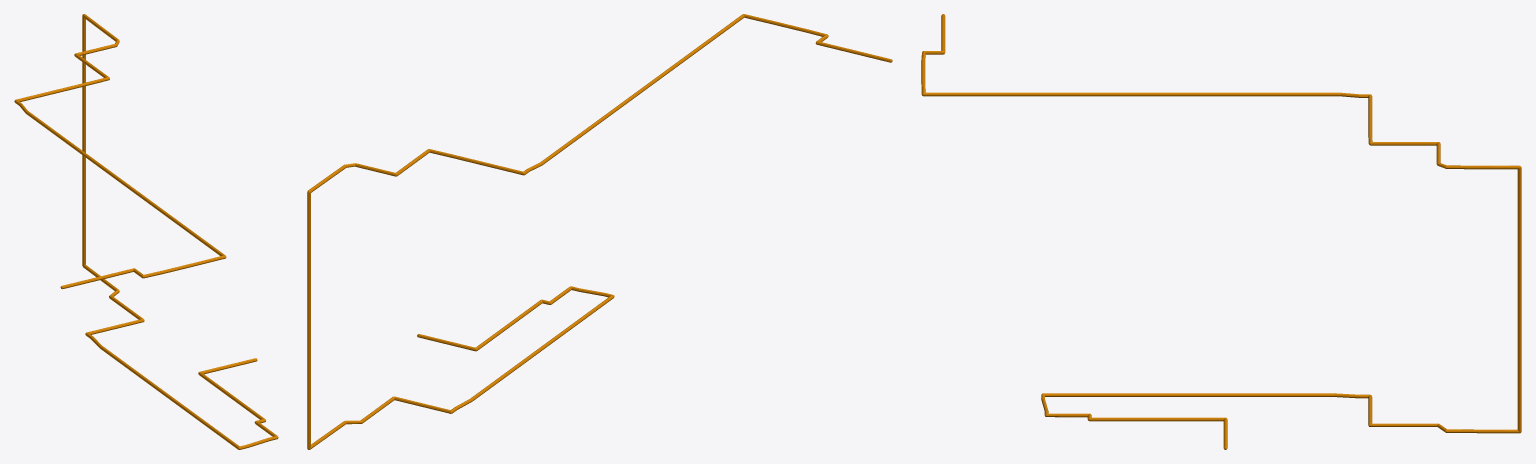
The picture shows the model from 3 angles, left to right: view 1: azimuth 30°, elevation 25°; view 2: azimuth 150°, elevation 25°; view 3: azimuth 270°, elevation 25°; orthographic projection. The views are drawn at different scales.
Bounding box in the file's own units: 2073 × 1520 × 3092.
